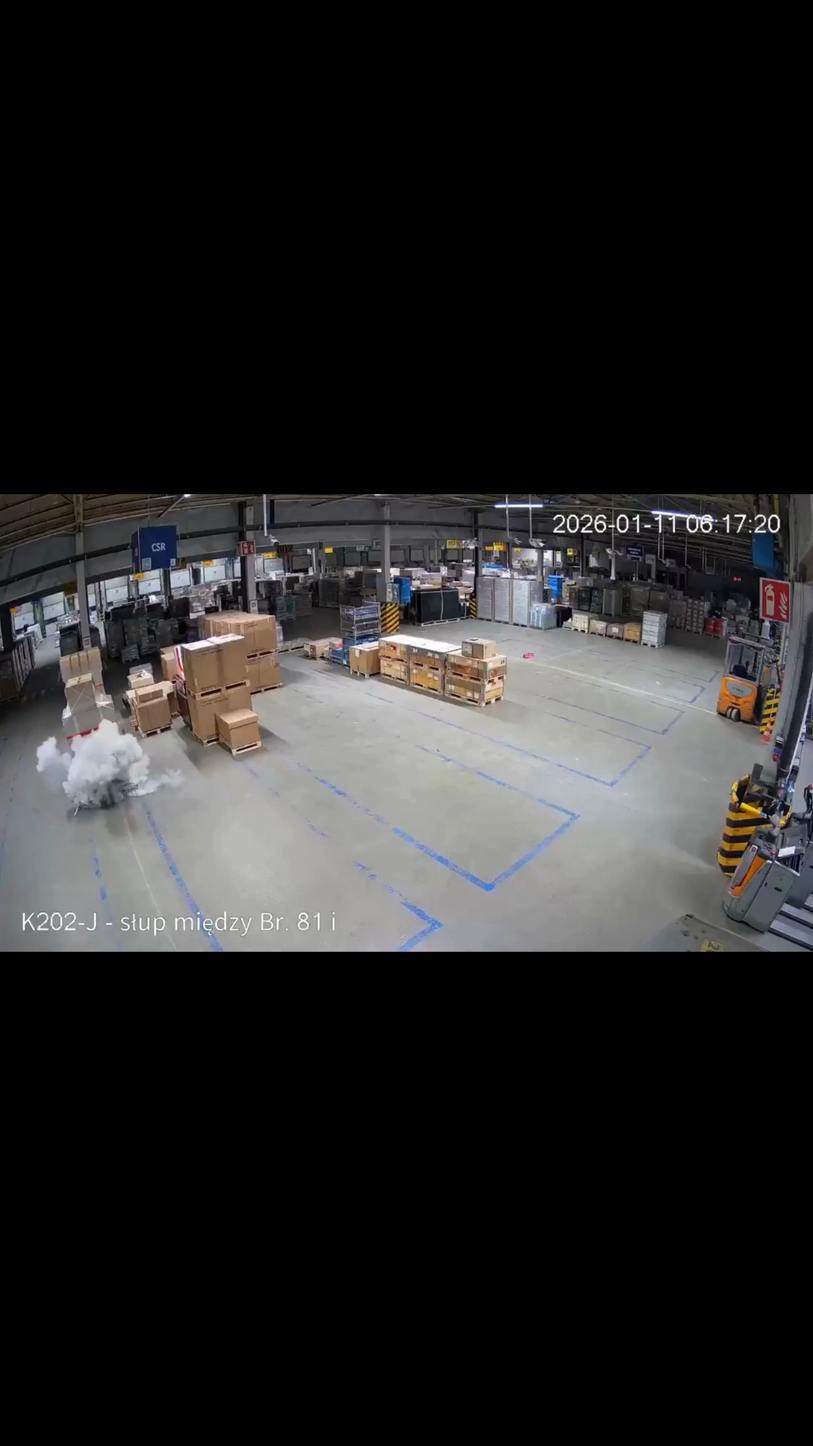smoke: (35, 716, 186, 812)
